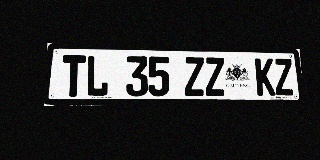3: (126, 56, 148, 96)
5: (148, 56, 170, 96)
K: (255, 58, 276, 96)
L: (85, 55, 109, 97)
T: (61, 55, 86, 97)
Z: (184, 57, 205, 96), (204, 57, 225, 96), (274, 58, 294, 95)
